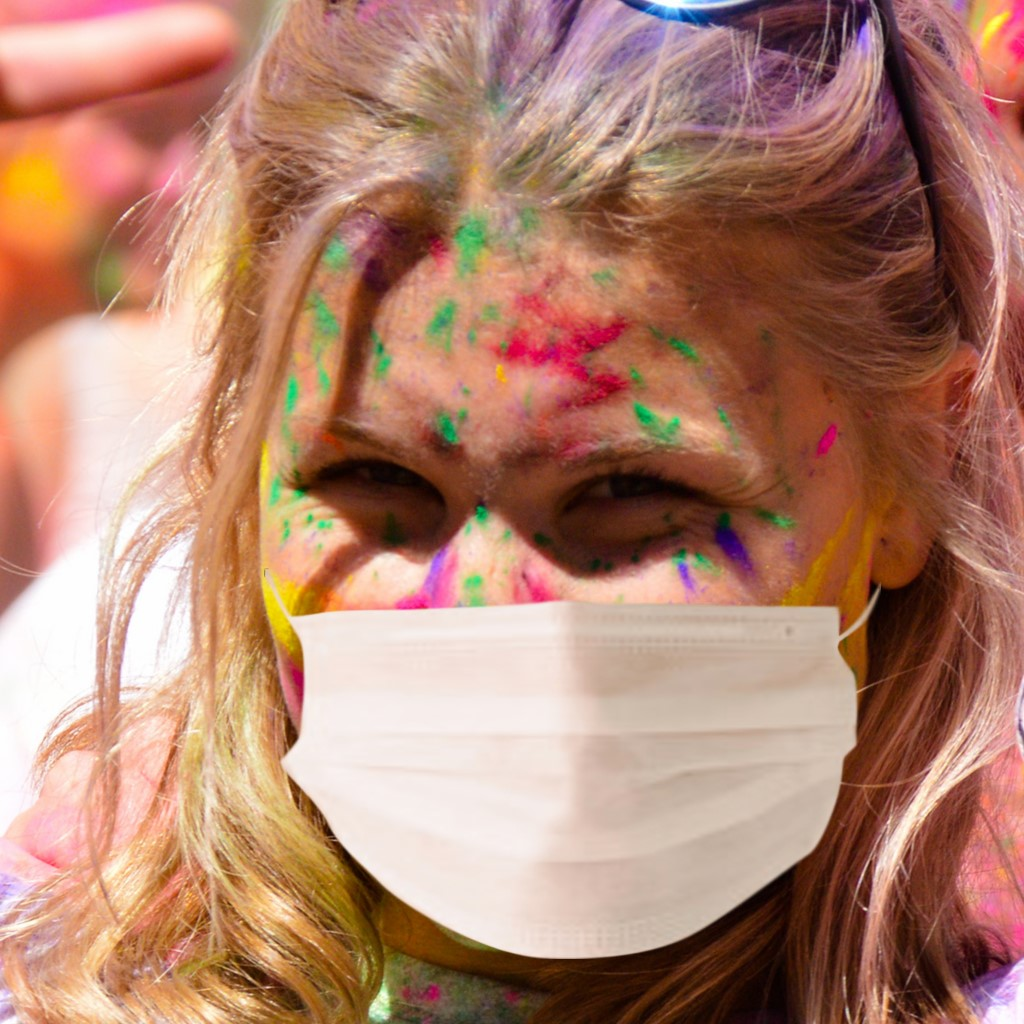con_mascara: (225, 111, 894, 953)
